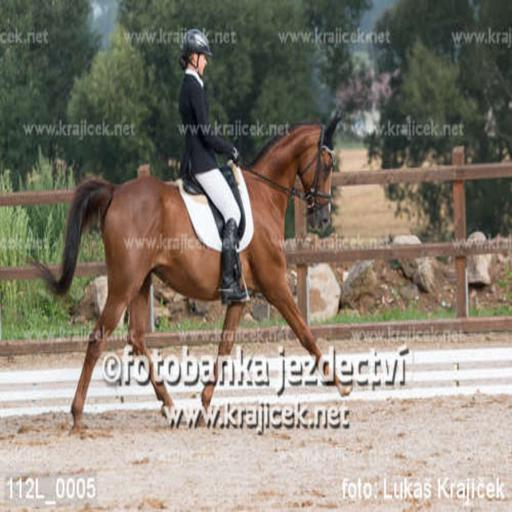Horse: (20, 110, 354, 430)
